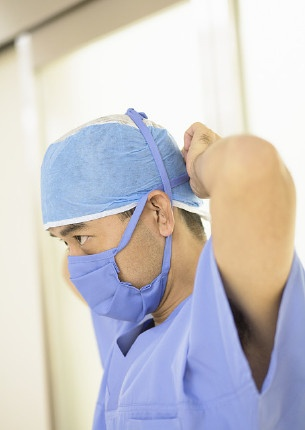Mask: (46, 212, 157, 323)
